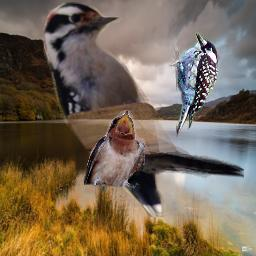Swallow: (84, 110, 145, 192)
Woodpecker: (43, 2, 244, 217), (160, 28, 226, 142)
